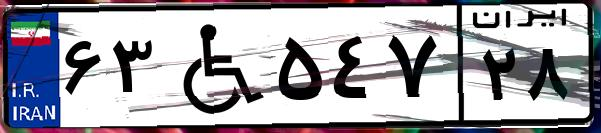2: (475, 38, 525, 113)
3: (110, 28, 158, 98)
4: (330, 28, 385, 110)
5: (270, 28, 330, 110)
6: (57, 26, 110, 100)
7: (385, 28, 445, 110)
8: (525, 38, 570, 115)
ژ (معلولین و جانبازان): (158, 12, 270, 120)
